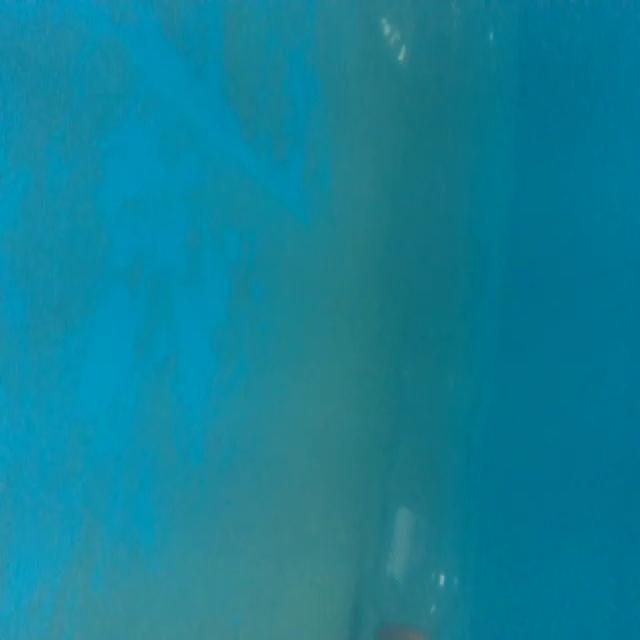plastic bottle: (373, 317, 493, 640)
